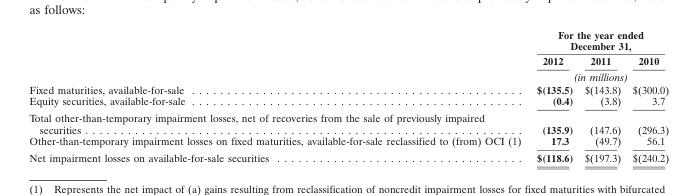table: (28, 28, 668, 163)
table column: (28, 28, 528, 163), (528, 28, 578, 163), (578, 28, 626, 163), (626, 28, 668, 163)
table column header: (28, 28, 668, 82)
table row: (28, 109, 668, 134), (28, 28, 668, 52), (28, 52, 668, 68), (28, 94, 668, 109), (28, 134, 668, 149), (28, 68, 668, 82), (28, 149, 668, 163), (28, 82, 668, 94)
table spanning cell: (528, 28, 668, 52), (528, 68, 668, 82)
